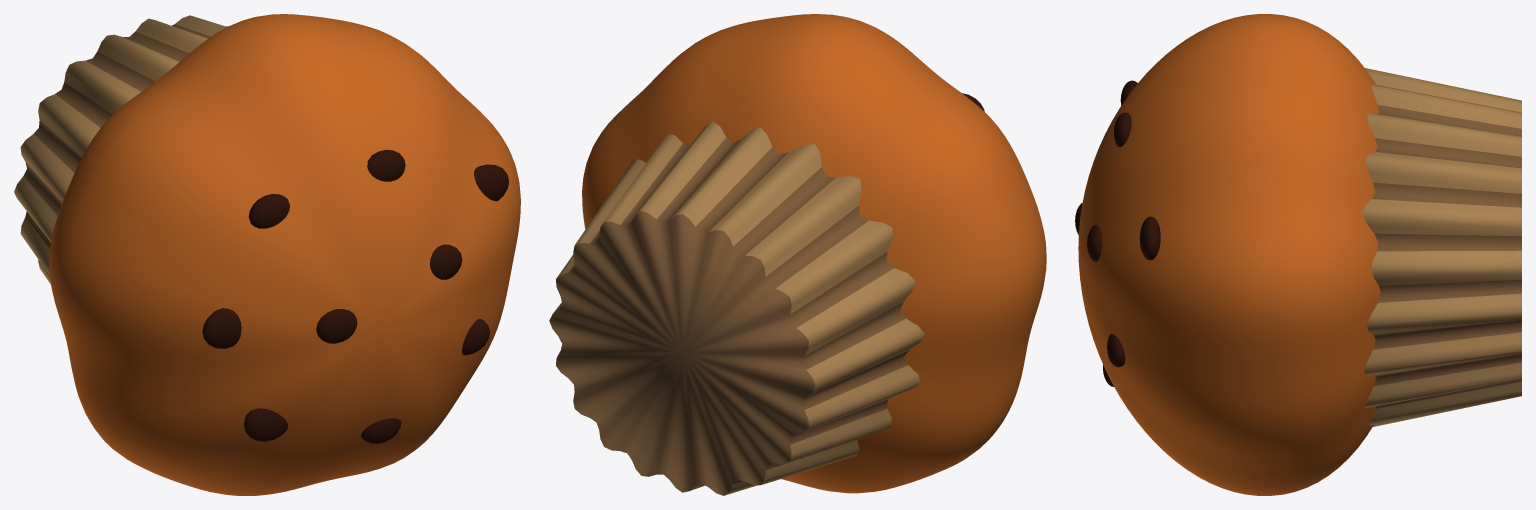
File: muffin.obj
The picture shows the model from 3 angles, left to right: view 1: azimuth 30°, elevation 25°; view 2: azimuth 150°, elevation 25°; view 3: azimuth 270°, elevation 25°; orthographic projection. The views are drawn at different scales.
Parts seen in each view (by area): view 1: muffin; view 2: muffin; view 3: muffin.
Part boxes in pixels (x1,y1,x2,y2): muffin: [14, 14, 520, 495]; muffin: [549, 14, 1046, 495]; muffin: [1075, 14, 1521, 495].
Size of the model in its own units: 0.0918 by 0.0907 by 0.0846.
